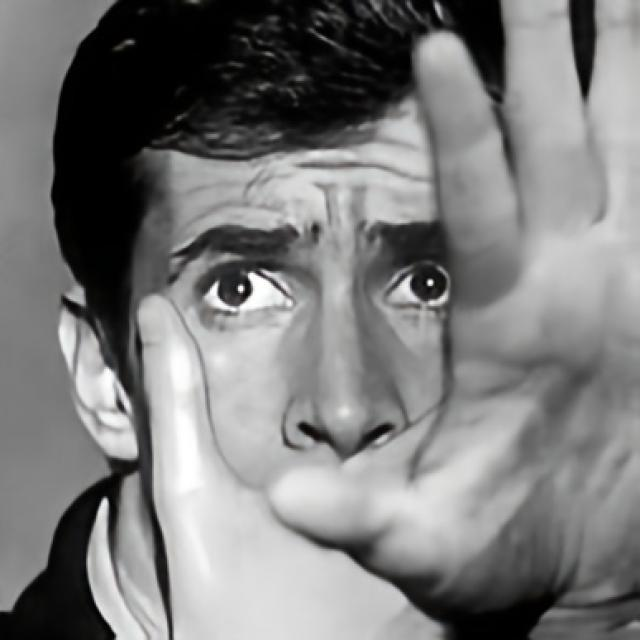fear: (121, 95, 453, 548)
